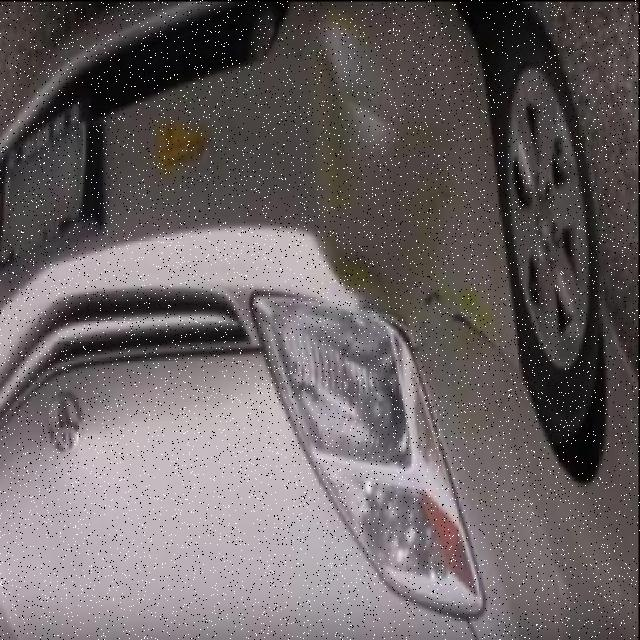damage: (308, 11, 456, 348), (430, 285, 519, 370)
